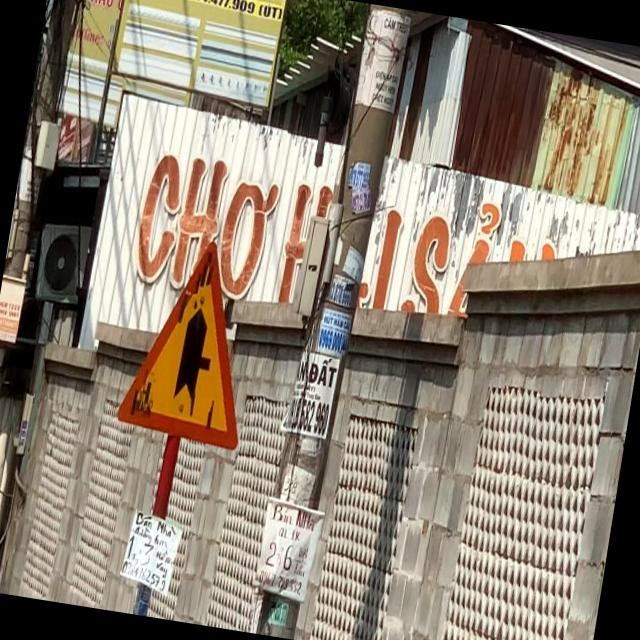W-207b: (115, 223, 272, 454)
